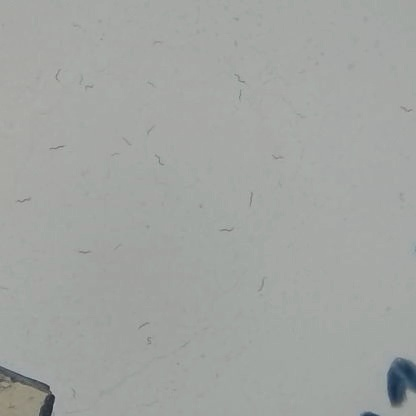worm: (16, 185, 37, 208), (395, 181, 413, 205), (232, 67, 253, 86), (253, 275, 270, 297), (133, 316, 155, 330), (232, 88, 251, 104), (242, 189, 257, 209), (48, 140, 69, 154), (51, 67, 67, 84), (69, 382, 81, 404), (139, 335, 160, 347), (398, 102, 416, 114), (148, 37, 169, 47), (120, 134, 134, 149), (144, 123, 158, 138), (179, 337, 193, 351), (82, 81, 95, 95), (217, 225, 235, 235), (75, 247, 91, 258), (69, 20, 83, 32), (111, 240, 122, 255), (103, 152, 121, 161), (271, 153, 283, 165), (76, 72, 87, 85), (143, 80, 157, 90), (293, 112, 309, 120), (0, 281, 13, 290)
